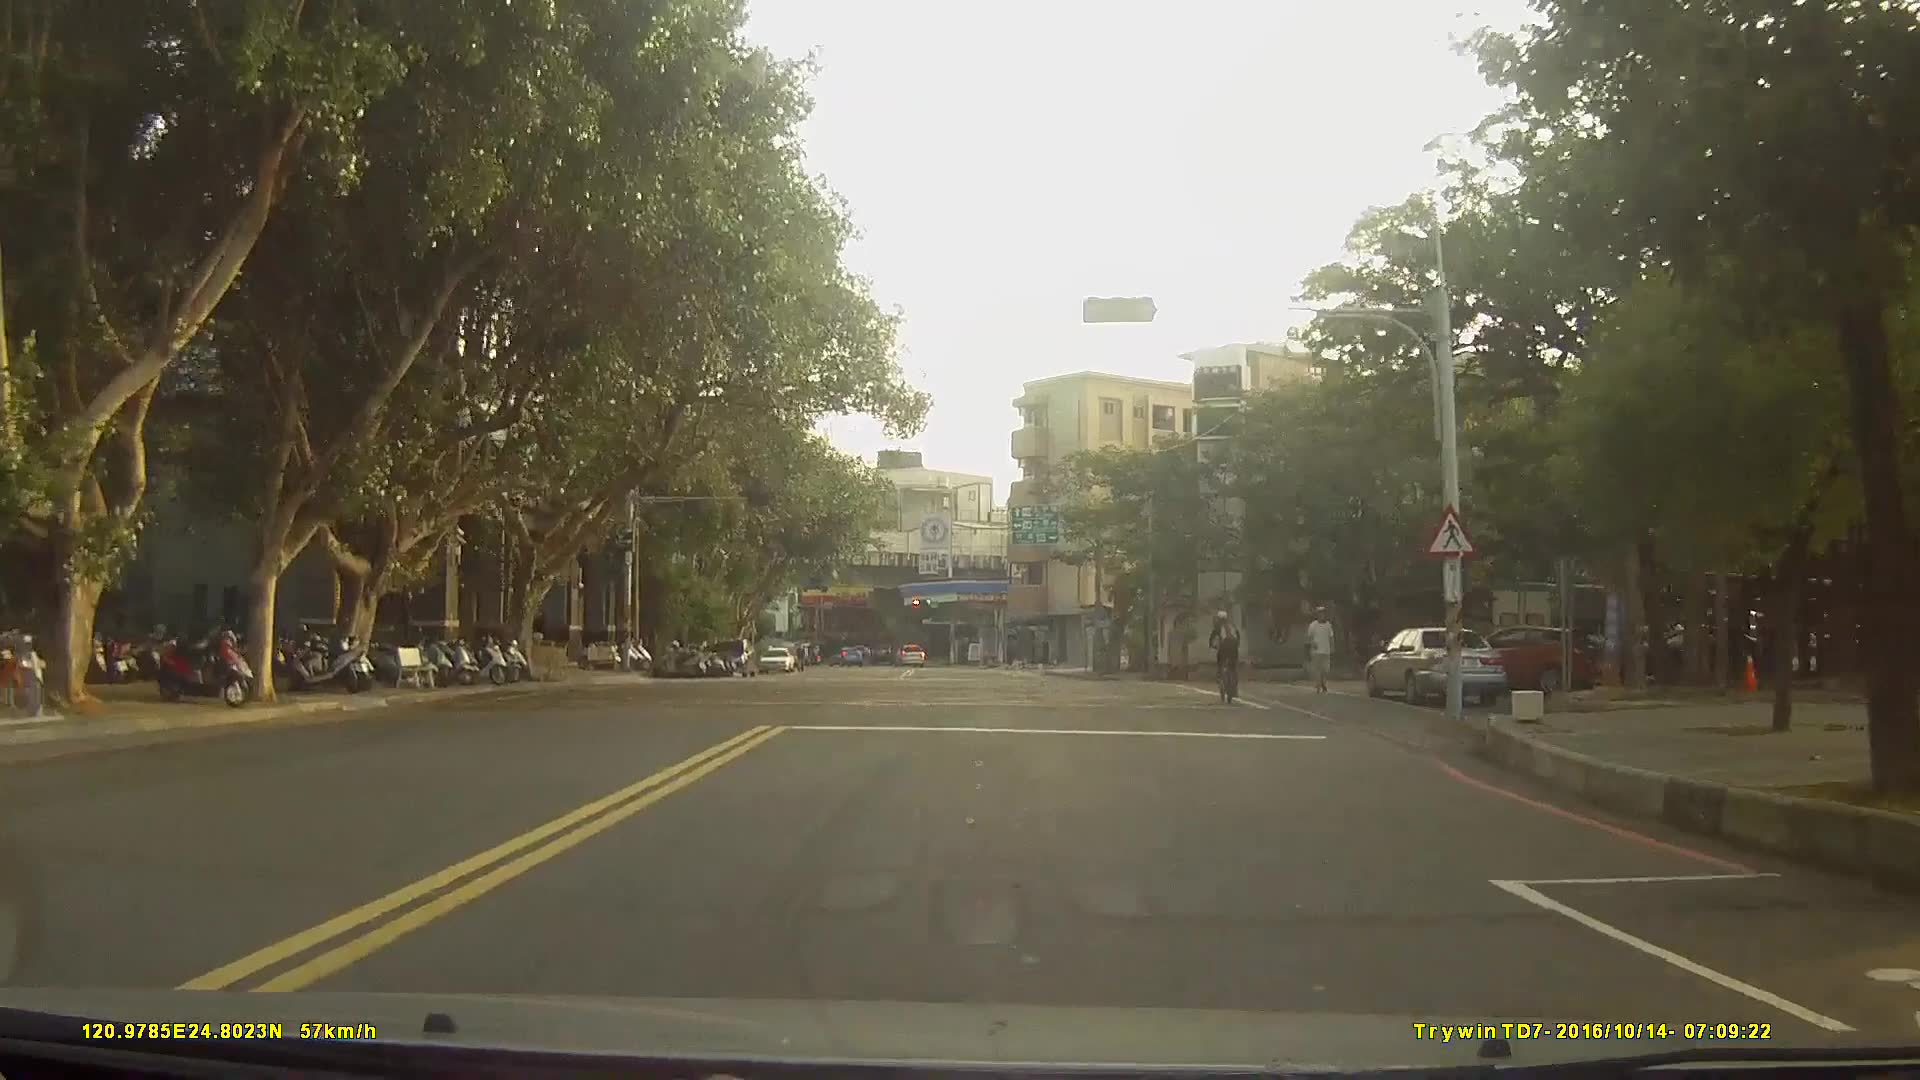pedestrian: (1304, 598, 1340, 703), (530, 611, 550, 644)
rider: (1205, 609, 1242, 705)
vehicle: (1366, 624, 1505, 705), (1451, 625, 1579, 695), (706, 633, 758, 674), (759, 645, 794, 676), (890, 641, 923, 666)
